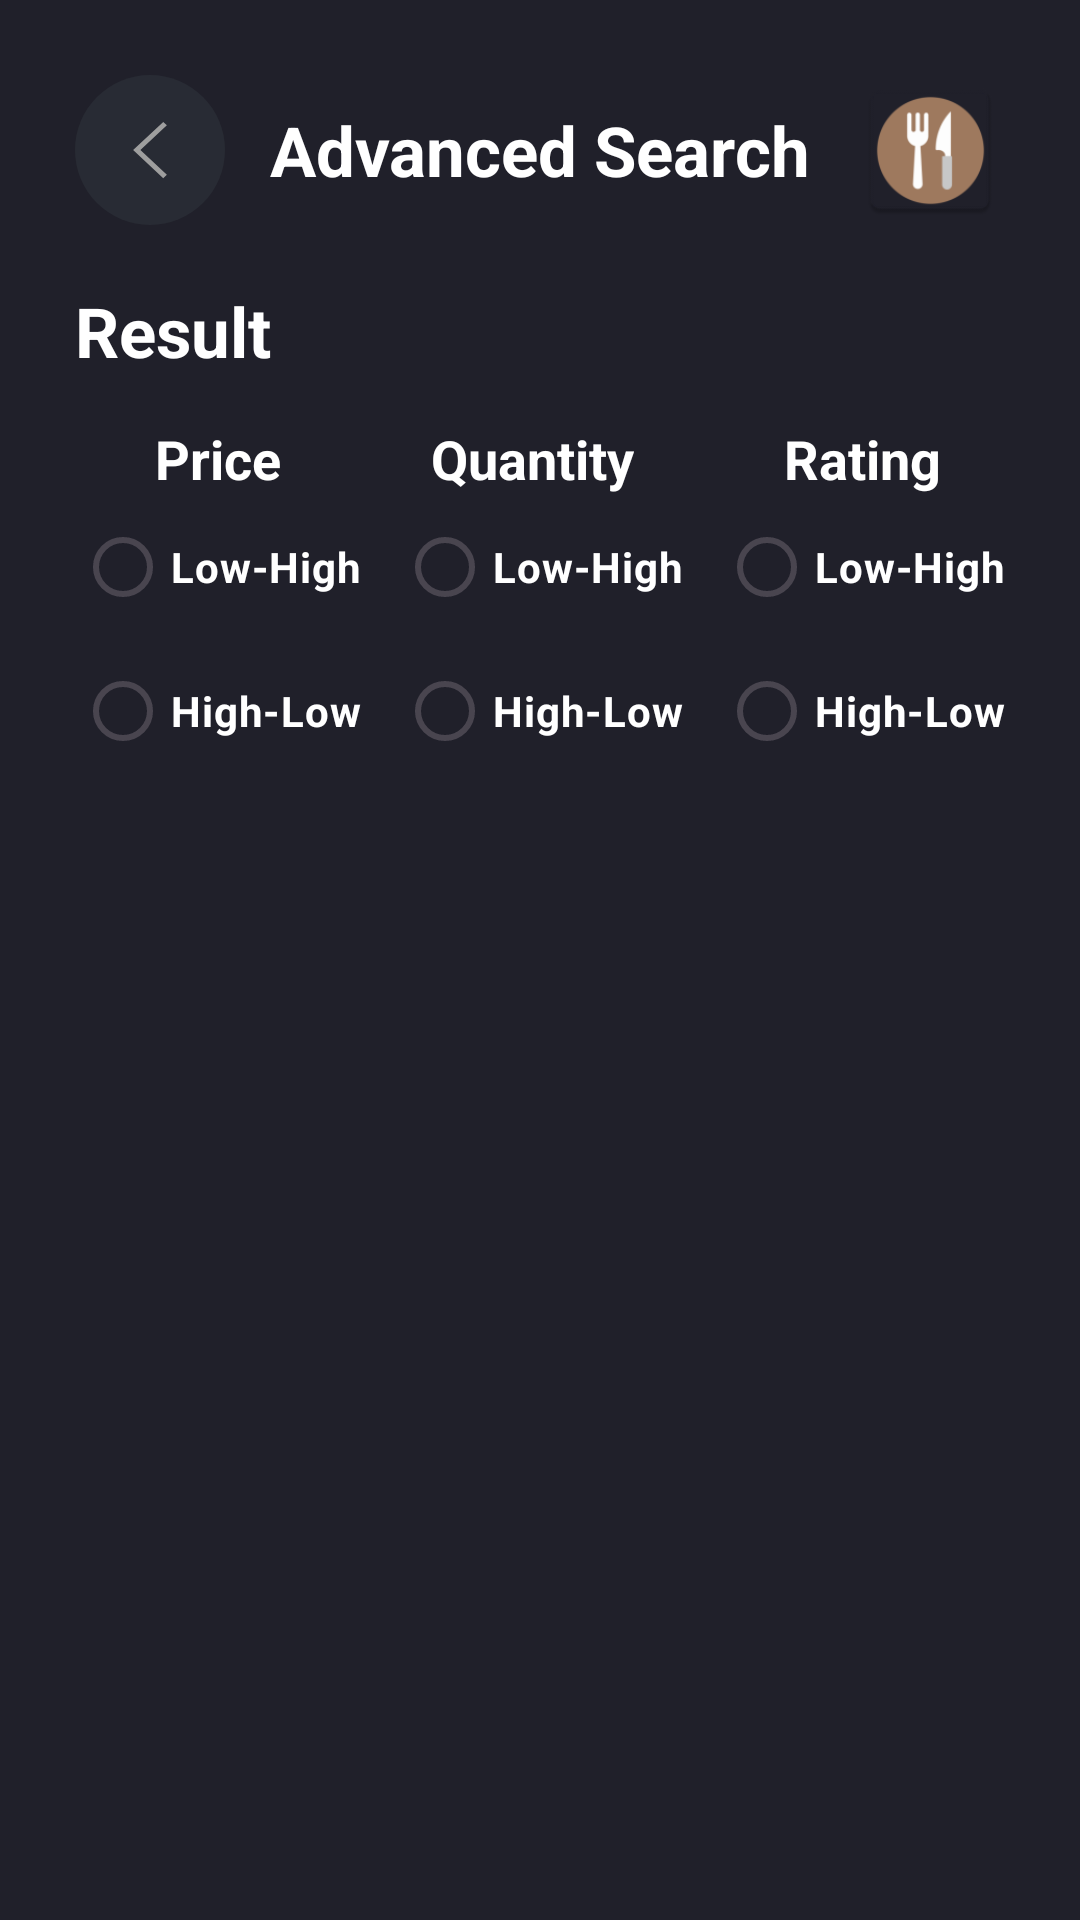

Point at icon controls on the screen. Image size 1080px×1920px, points as (x,y).
left arrow: (150,150)
